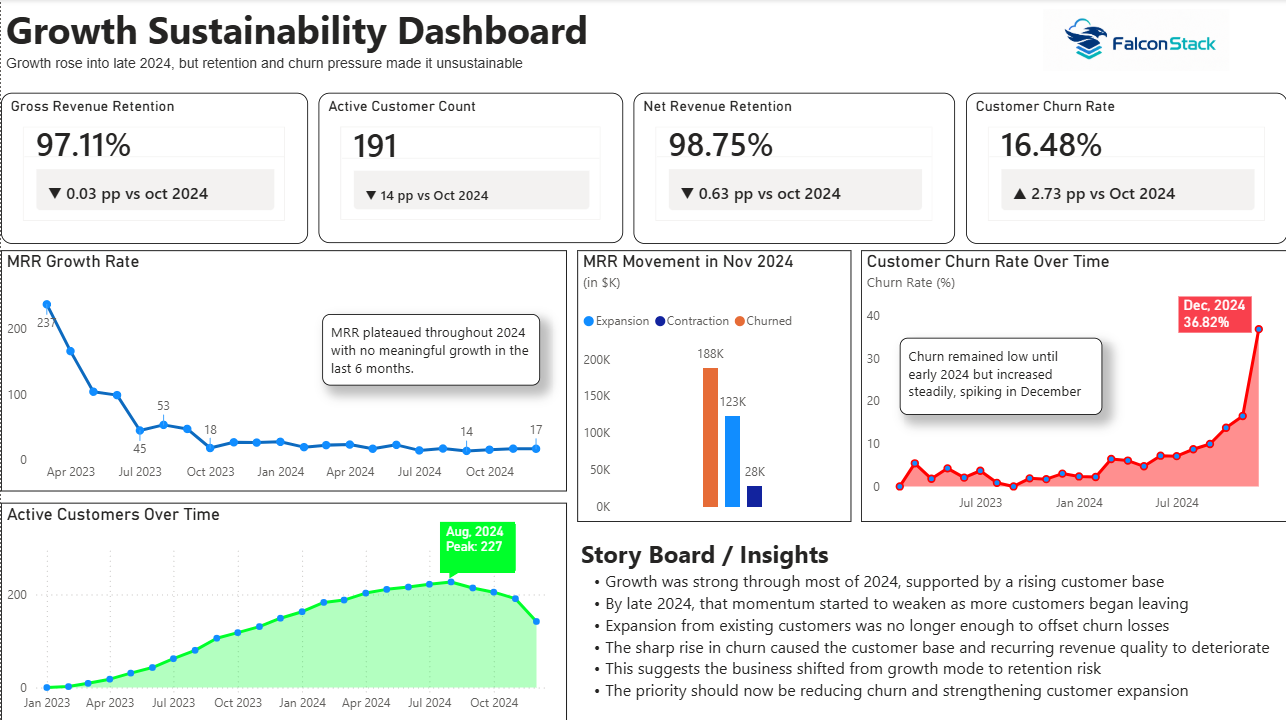

Layout of this report page (visuals, bound fields, positions):
{"tool":"powerbi","page":{"name":"Growth Sustainability Dashboard","canvas":[1280,720],"ordinal":0},"visuals":[{"type":"textbox","box":[0,0,640.1,81],"z":0},{"type":"cardVisual","title":"Gross Revenue Retention","fields":{"Data":["nrr_grr_vw.GRRPercent"]},"box":[0,92.9,305.7,150],"z":1000},{"type":"cardVisual","title":"Net Revenue Retention","fields":{"Data":["nrr_grr_vw.NRRPercent"]},"box":[630,92.9,320,150],"z":2000},{"type":"cardVisual","title":"Customer Churn Rate","fields":{"Data":["customer_churn_rate_vw.CurrChurnPercent"]},"box":[960,92.9,320,150],"z":3000},{"type":"cardVisual","title":"Active Customer Count","fields":{"Data":["arpu_ltv_vw.CurrActiveCus"]},"box":[316,93.3,303.5,149.3],"z":4000},{"type":"lineChart","title":"MRR Growth Rate","fields":{"Y":["Sum(revenue_growth_rate_vw.revenue_growth_rate)"],"Category":["revenue_growth_rate_vw.mnth.Variation.Date Hierarchy.Year","revenue_growth_rate_vw.mnth.Variation.Date Hierarchy.Month"]},"box":[0,250,562.9,240],"z":5000},{"type":"clusteredColumnChart","title":"MRR Movement in Nov 2024","fields":{"Y":["Sum(mrr_components_vw.nov_expansion_mrr)","Sum(mrr_components_vw.nov_contraction_mrr)","Sum(mrr_components_vw.nov_churned_mrr)"]},"box":[572.9,250,272.9,270],"z":6000},{"type":"areaChart","title":"Customer Churn Rate Over Time","fields":{"Category":["customer_churn_rate_vw.mnth.Variation.Date Hierarchy.Year","customer_churn_rate_vw.mnth.Variation.Date Hierarchy.Month"],"Y":["Sum(customer_churn_rate_vw.cus_churn_rate)"]},"box":[855.7,250,424.3,270],"z":7000},{"type":"textbox","box":[572.8,531.6,707.5,188.2],"z":8000},{"type":"areaChart","title":"Active Customers Over Time","fields":{"Category":["arpu_ltv_vw.mnth.Variation.Date Hierarchy.Year","arpu_ltv_vw.mnth.Variation.Date Hierarchy.Month"],"Y":["Sum(arpu_ltv_vw.active_cus)"]},"box":[0,501.6,563.2,218.4],"z":9000},{"type":"textbox","box":[320.1,313.2,217,71.4],"z":10000},{"type":"textbox","box":[894.3,336.6,201.9,76.9],"z":11000},{"type":"textbox","title":"Dec, 2024 36.82%","box":[1171.4,295.7,72.8,35.7],"z":12000},{"type":"shape","box":[437,520,75,57],"z":13000},{"type":"textbox","title":"Aug, 2024 Peak: 227","box":[438,522,74,46],"z":14000},{"type":"image","box":[980.8,9.6,299.5,61.8],"z":15000}]}

Visuals, with their boxes in screenshot pixels (x1, y1, x2, y2), scaled from the page's 1280x720 canvas onto the 1286x720 screenshot:
textbox: (left=0, top=0, right=643, bottom=81)
"Gross Revenue Retention" cardVisual: (left=0, top=93, right=307, bottom=243)
"Net Revenue Retention" cardVisual: (left=633, top=93, right=954, bottom=243)
"Customer Churn Rate" cardVisual: (left=964, top=93, right=1285, bottom=243)
"Active Customer Count" cardVisual: (left=317, top=93, right=622, bottom=243)
"MRR Growth Rate" lineChart: (left=0, top=250, right=566, bottom=490)
"MRR Movement in Nov 2024" clusteredColumnChart: (left=576, top=250, right=850, bottom=520)
"Customer Churn Rate Over Time" areaChart: (left=860, top=250, right=1285, bottom=520)
textbox: (left=575, top=532, right=1285, bottom=719)
"Active Customers Over Time" areaChart: (left=0, top=502, right=566, bottom=719)
textbox: (left=322, top=313, right=540, bottom=385)
textbox: (left=898, top=337, right=1101, bottom=414)
"Dec, 2024 36.82%" textbox: (left=1177, top=296, right=1250, bottom=331)
shape: (left=439, top=520, right=514, bottom=577)
"Aug, 2024 Peak: 227" textbox: (left=440, top=522, right=514, bottom=568)
image: (left=985, top=10, right=1285, bottom=71)
